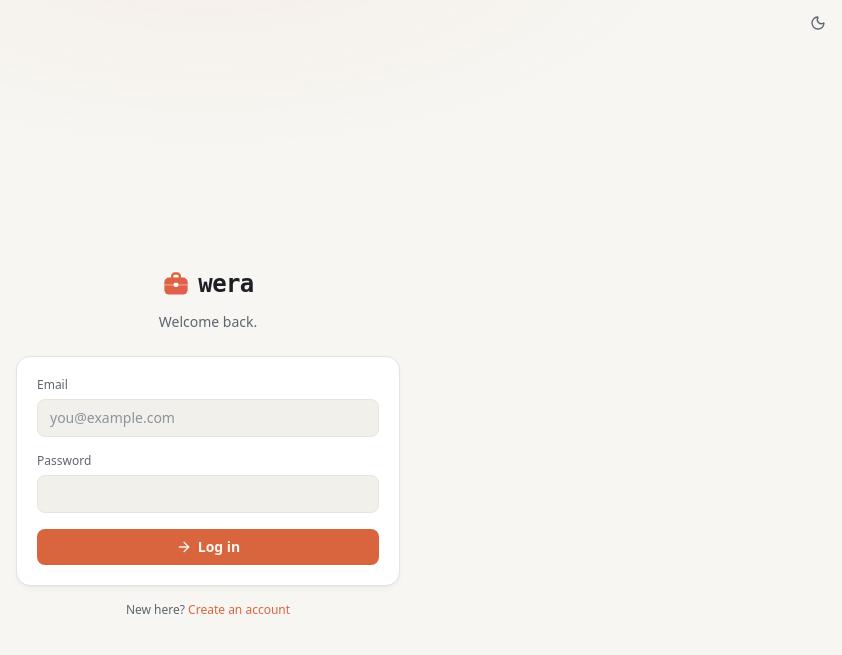
Test: AuthPage › shows the server error on a failed login
This screenshot has width=842, height=655.
Type "ada@example.com" into the field with placeholder "you@example.com" at (208, 418), box [37,399,379,437]
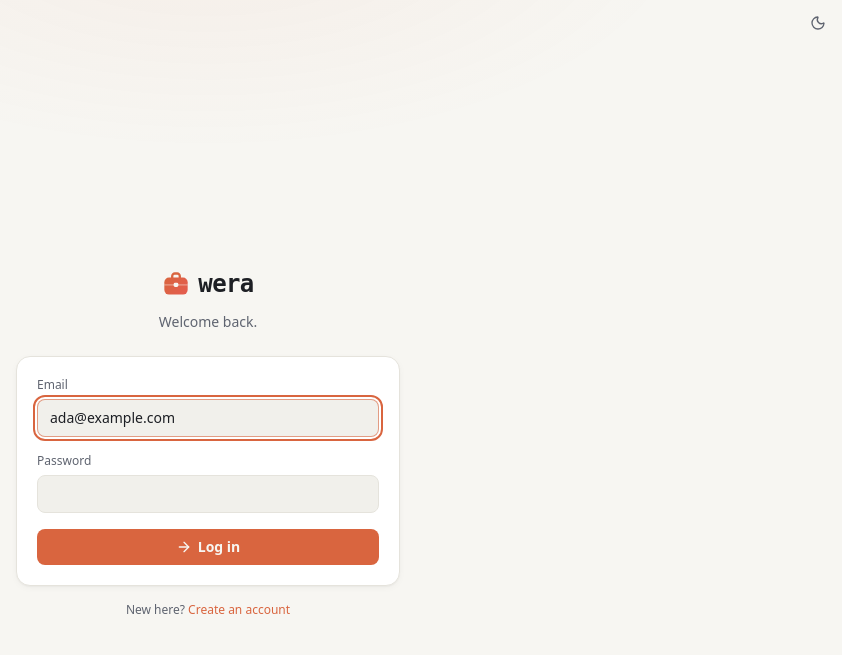
Type "not my password" into the password field labelled "Password" at (208, 494), box [37,475,379,513]
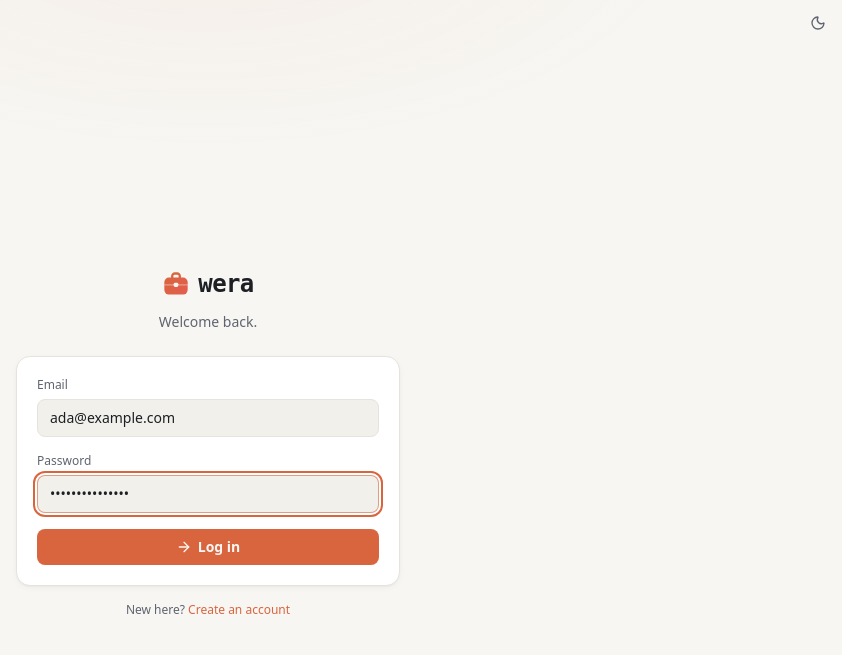
Click the button "Log in" at (208, 547), box [37,529,379,565]
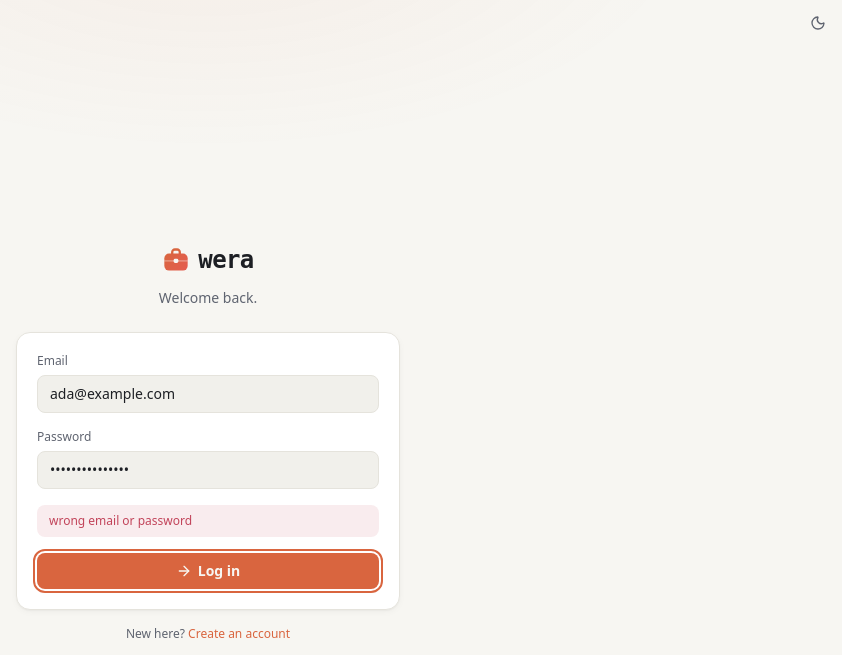
Result: the text "wrong email or password" is shown at [49,512,192,529]
